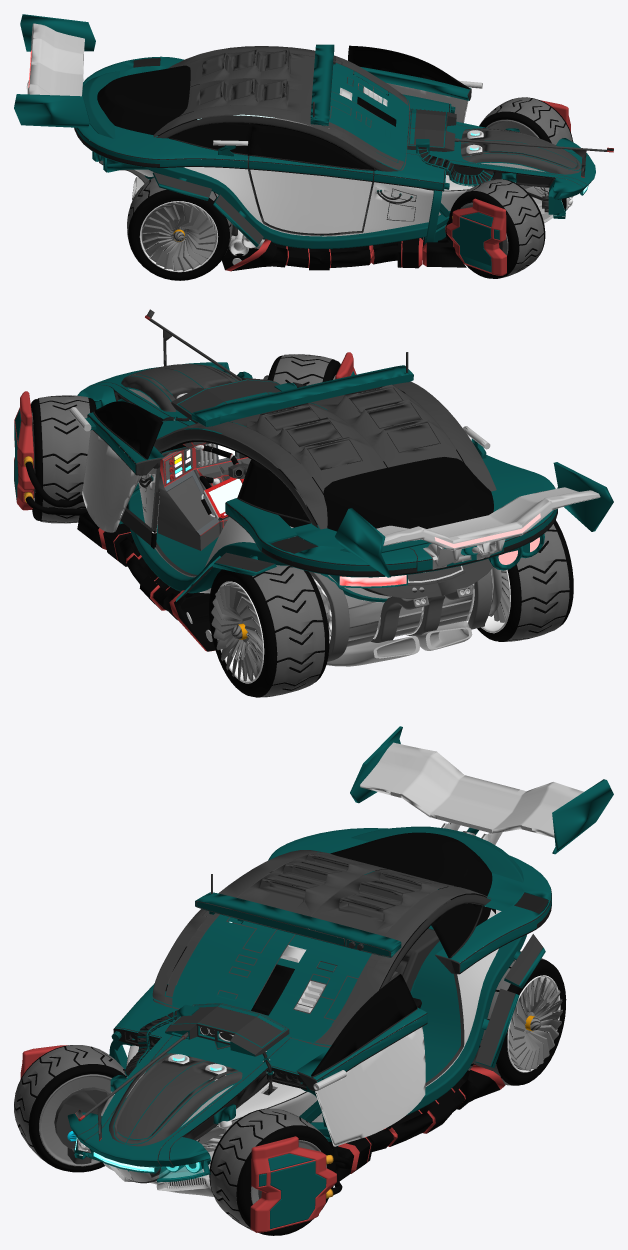
Rendered from newcar5.glb.
3 renders of one model, top to bottom at view 1: azimuth 30°, elevation 25°; view 2: azimuth 150°, elevation 25°; view 3: azimuth 270°, elevation 25°, orthographic. The views are drawn at different scales.
Parts seen in each view (by area): view 1: Object341_Material #2071_0, Object341_Material #2255_0, Object341_Material #4631_0, Object341_Material #2258_0, Object341_Material #2256_0, Object341_Material #3561_0, Object341_Material #4438_0, Object341_Material #2567_0, Object341_black_0, Object341_Material #3499_0, Object341_Material #2936_0, Object341_Material #5522_0 (+3 smaller); view 2: Object341_Material #4631_0, Object341_Material #2071_0, Object341_Material #2258_0, Object341_Material #2255_0, Object341_Material #3499_0, Object341_Material #3561_0, Object341_Material #2256_0, Object341_Material #4815_0, Object341_black_0, Object341_Material #3688_0, Object341_Material #2567_0, Object341_Material #3499_0.001 (+12 smaller); view 3: Object341_Material #2071_0, Object341_Material #4631_0, Object341_Material #2255_0, Object341_Material #2256_0, Object341_Material #2258_0, Object341_black_0, Object341_Material #3561_0, Object341_Material #3499_0, Object341_Material #2567_0, Object341_Material #2936_0, Object341_Material #4438_0, Object341_Material #5522_0 (+3 smaller).
Part boxes in pixels (bbox=[...]): Object341_Material #2071_0: bbox=[14, 14, 595, 272]; Object341_Material #2255_0: bbox=[26, 23, 573, 264]; Object341_Material #4631_0: bbox=[153, 46, 613, 200]; Object341_Material #2258_0: bbox=[97, 45, 469, 170]; Object341_Material #2256_0: bbox=[82, 48, 519, 248]; Object341_Material #3561_0: bbox=[127, 97, 573, 280]; Object341_Material #4438_0: bbox=[222, 198, 566, 271]; Object341_Material #2567_0: bbox=[141, 119, 539, 271]; Object341_black_0: bbox=[74, 51, 588, 250]; Object341_Material #3499_0: bbox=[463, 97, 572, 277]; Object341_Material #2936_0: bbox=[225, 100, 613, 275]; Object341_Material #5522_0: bbox=[74, 58, 568, 199]; Object341_Material #4631_0: bbox=[121, 309, 496, 598]; Object341_Material #2071_0: bbox=[14, 362, 613, 601]; Object341_Material #2258_0: bbox=[94, 391, 493, 548]; Object341_Material #2255_0: bbox=[69, 388, 600, 641]; Object341_Material #3499_0: bbox=[38, 354, 332, 697]; Object341_Material #3561_0: bbox=[30, 354, 573, 697]; Object341_Material #2256_0: bbox=[85, 371, 486, 602]; Object341_Material #4815_0: bbox=[139, 477, 492, 661]; Object341_black_0: bbox=[32, 352, 502, 638]; Object341_Material #3688_0: bbox=[157, 442, 251, 550]; Object341_Material #2567_0: bbox=[32, 375, 509, 681]; Object341_Material #3499_0.001: bbox=[504, 524, 569, 641]; Object341_Material #2071_0: bbox=[67, 726, 613, 1229]; Object341_Material #4631_0: bbox=[54, 850, 491, 1183]; Object341_Material #2255_0: bbox=[77, 742, 583, 1184]; Object341_Material #2256_0: bbox=[109, 826, 526, 1146]; Object341_Material #2258_0: bbox=[165, 832, 495, 1076]; Object341_black_0: bbox=[77, 874, 542, 1198]; Object341_Material #3561_0: bbox=[14, 959, 566, 1235]; Object341_Material #3499_0: bbox=[14, 951, 545, 1234]; Object341_Material #2567_0: bbox=[39, 977, 562, 1204]; Object341_Material #2936_0: bbox=[20, 1035, 505, 1232]; Object341_Material #4438_0: bbox=[77, 1070, 500, 1181]; Object341_Material #5522_0: bbox=[102, 859, 551, 1166].
Bounding box in the file's own units: 3.51 × 1.16 × 2.85.
